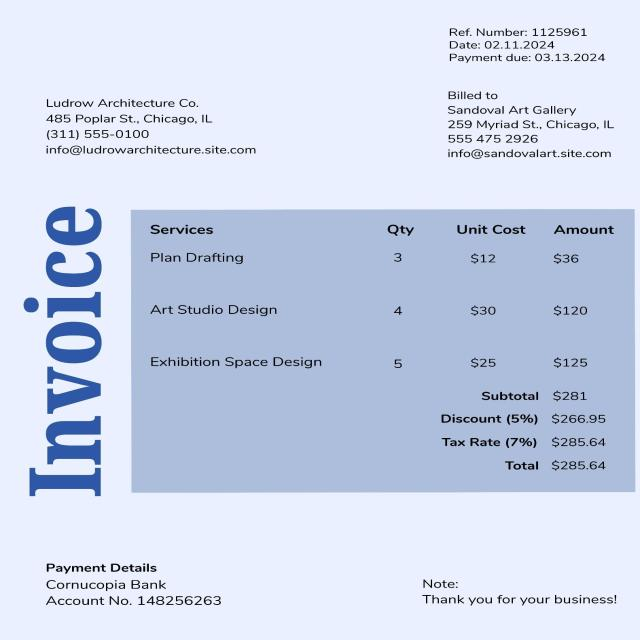paragraph: (7, 196, 116, 501), (35, 86, 275, 165), (432, 384, 621, 484), (437, 87, 625, 171), (26, 554, 232, 622), (414, 569, 629, 621), (440, 17, 618, 70)
table: (135, 208, 624, 377)
